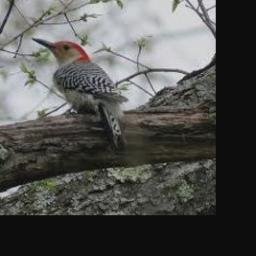Woodpecker: (31, 37, 128, 148)
